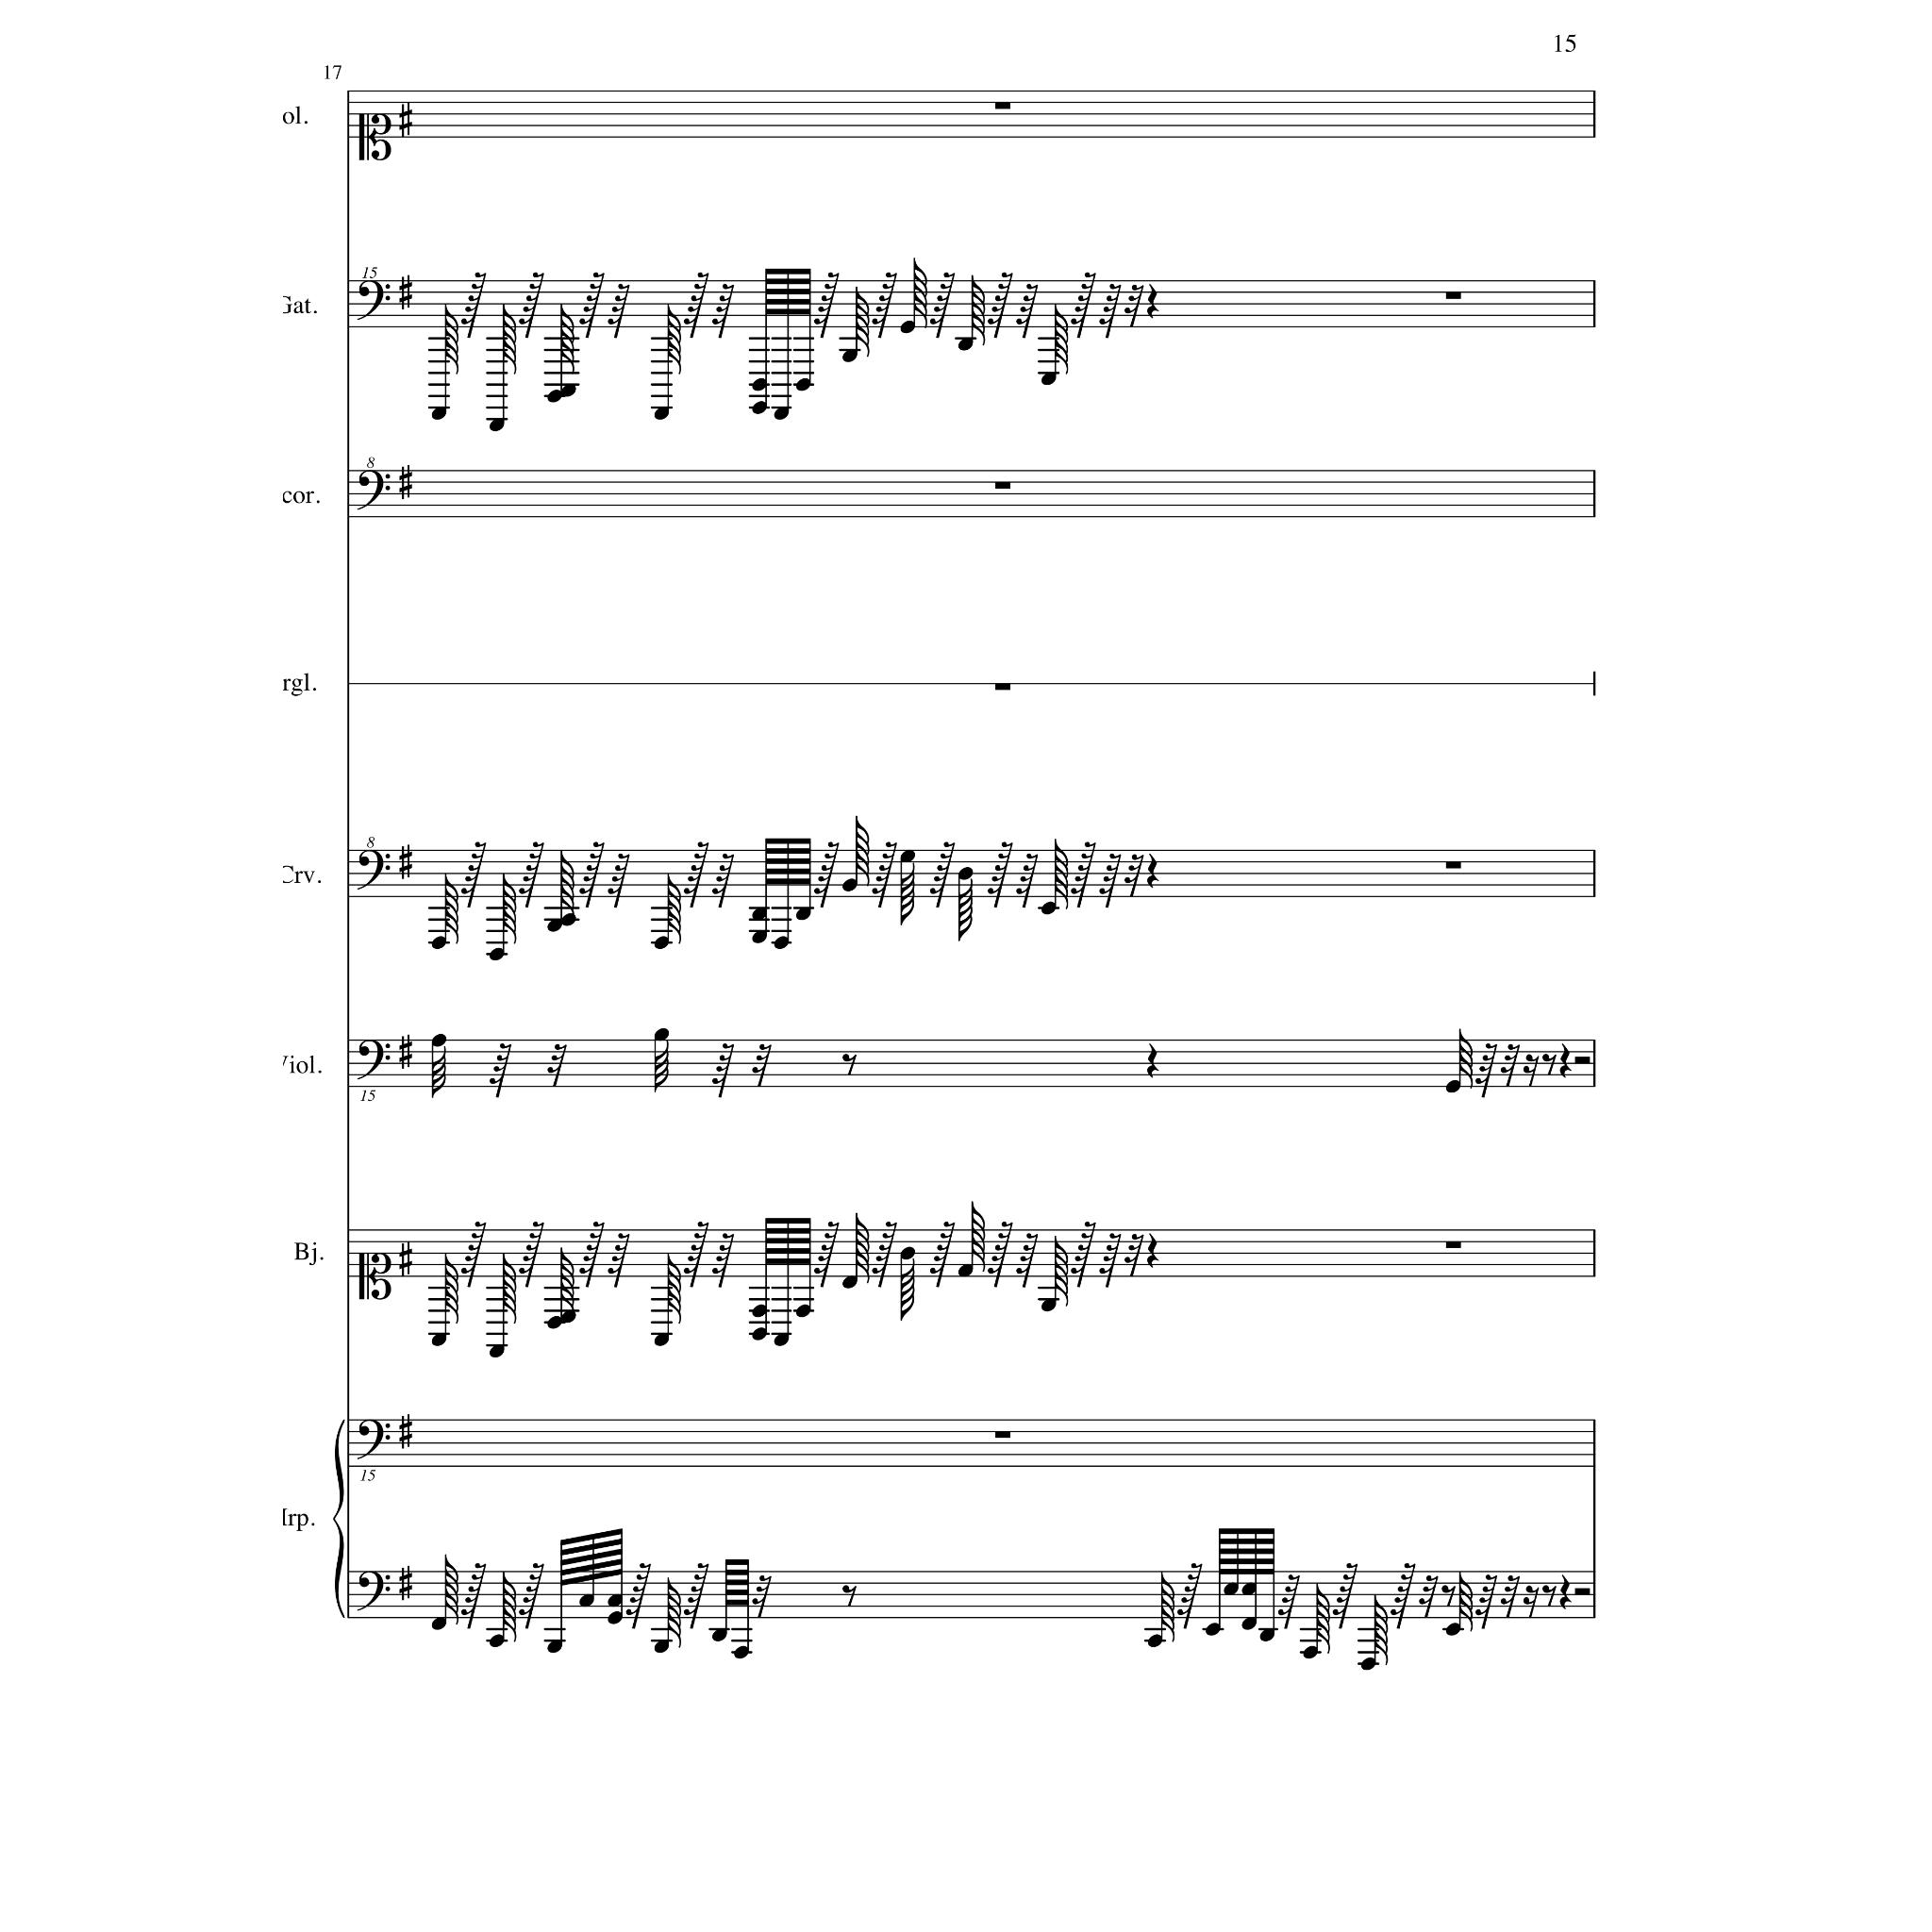brace: (332, 1419, 345, 1619)
fClef: (357, 470, 391, 511), (357, 849, 391, 891), (357, 1040, 391, 1081), (357, 1419, 391, 1460), (357, 281, 391, 321), (357, 1572, 391, 1611)
flag128thDown: (900, 862, 915, 926), (958, 879, 973, 941), (900, 1258, 915, 1321)
flag128thUp: (502, 874, 517, 945), (502, 1253, 517, 1324), (502, 1572, 517, 1643), (502, 304, 517, 375), (560, 851, 575, 923), (560, 304, 575, 375), (560, 1249, 575, 1319), (1055, 304, 1068, 375), (1055, 1236, 1068, 1307), (856, 1213, 869, 1285), (856, 287, 869, 358), (972, 275, 985, 347), (1317, 1583, 1330, 1655), (1161, 1572, 1174, 1643), (1374, 1594, 1388, 1666), (445, 304, 458, 375), (445, 874, 458, 945), (445, 1253, 458, 1324), (668, 304, 681, 375), (668, 874, 681, 945), (668, 1253, 681, 1324), (668, 1577, 681, 1649), (1055, 840, 1068, 909), (856, 817, 869, 887), (972, 1202, 985, 1272), (914, 258, 927, 328), (445, 1555, 458, 1624)
flag64thDown: (432, 1045, 445, 1098), (655, 1040, 668, 1092)
flag64thUp: (1459, 1029, 1473, 1090), (1459, 1572, 1473, 1632)
noteheadBlack: (1223, 1581, 1240, 1596), (1241, 1581, 1257, 1596), (547, 389, 562, 404), (547, 1315, 562, 1330), (957, 338, 974, 351), (957, 867, 974, 880), (957, 1264, 974, 1277), (1302, 1646, 1319, 1659), (430, 408, 447, 421), (430, 936, 447, 949), (430, 1034, 447, 1047), (430, 1333, 447, 1346), (430, 1617, 447, 1630), (751, 1327, 768, 1341), (751, 401, 768, 414), (751, 378, 768, 391), (751, 931, 768, 944), (751, 908, 768, 921), (751, 1305, 768, 1318), (794, 378, 811, 391), (794, 908, 811, 921), (794, 1305, 811, 1318), (1041, 1299, 1057, 1312), (1041, 902, 1057, 915), (1041, 373, 1057, 386), (1147, 1634, 1162, 1647), (900, 321, 915, 334), (841, 350, 857, 363), (841, 878, 857, 891), (841, 1275, 857, 1289), (900, 850, 915, 863), (900, 1247, 915, 1260), (1241, 1617, 1257, 1630), (1259, 1628, 1274, 1641), (1206, 1623, 1221, 1636), (1445, 1080, 1460, 1093), (1445, 1623, 1460, 1636), (1360, 1657, 1375, 1671), (489, 419, 504, 432), (489, 948, 504, 961), (489, 1345, 504, 1358), (489, 1634, 504, 1647), (579, 1594, 594, 1607), (547, 919, 562, 932), (560, 384, 575, 397), (560, 913, 575, 926), (560, 1310, 575, 1324), (547, 1641, 562, 1654), (734, 1646, 749, 1659), (711, 1628, 726, 1641), (774, 1333, 789, 1346), (774, 408, 789, 421), (774, 936, 789, 949), (654, 1028, 669, 1041), (654, 408, 669, 421), (654, 936, 669, 949), (654, 1333, 669, 1346), (654, 1641, 669, 1654), (608, 1611, 623, 1624), (608, 1594, 623, 1607)
rest16th: (1523, 1585, 1540, 1619), (1523, 1055, 1540, 1087)
rest8th: (841, 1054, 857, 1076), (841, 1585, 857, 1607), (1541, 1054, 1557, 1076), (1541, 1585, 1557, 1607), (1441, 1585, 1456, 1607)
restHalf: (1574, 1057, 1591, 1064), (1574, 1588, 1591, 1595)
restQuarter: (1147, 853, 1158, 889), (1147, 1043, 1158, 1079), (1147, 1233, 1158, 1269), (1560, 1043, 1572, 1079), (1147, 285, 1158, 319), (1560, 1575, 1572, 1609)
restWhole: (1445, 292, 1462, 300), (1445, 862, 1462, 870), (1445, 1241, 1462, 1249), (994, 1431, 1009, 1439), (994, 102, 1009, 109), (994, 482, 1009, 490), (994, 683, 1009, 691)
